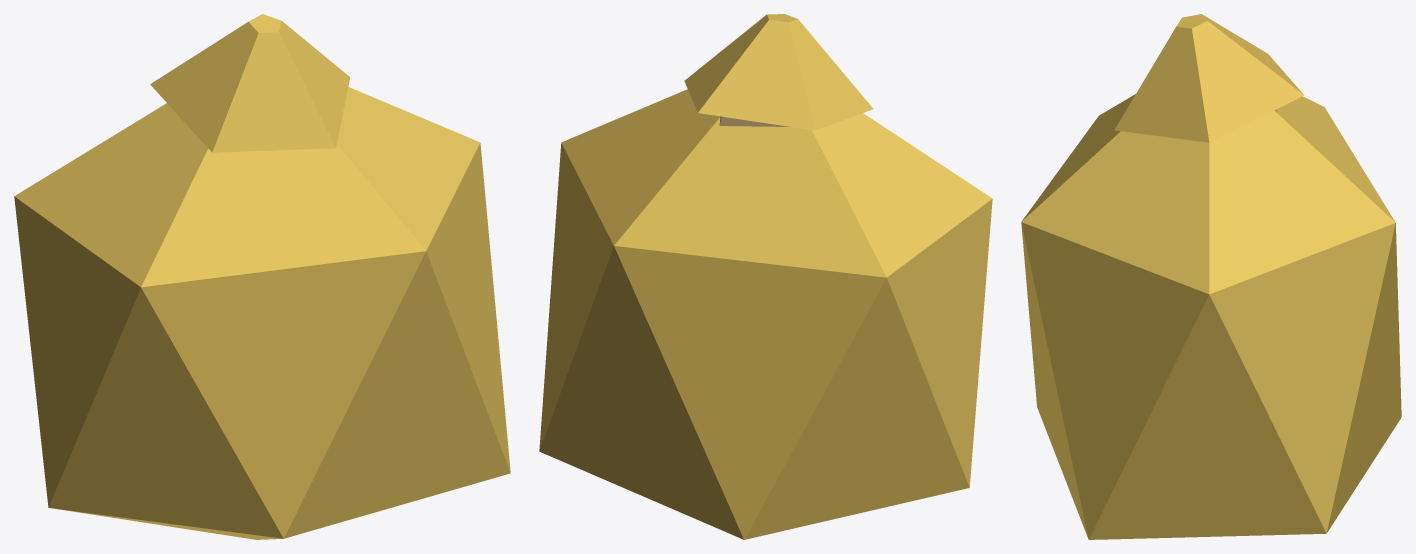
File: Sack_Grain.fbx
3 renders of one model, left to right at view 1: azimuth 30°, elevation 25°; view 2: azimuth 150°, elevation 25°; view 3: azimuth 270°, elevation 25°, orthographic. The views are drawn at different scales.
Parts seen in each view (by area): view 1: Sack_Grain; view 2: Sack_Grain; view 3: Sack_Grain.
Boxes of the visible parts, bbox=[...] form: Sack_Grain: bbox=[14, 14, 510, 539]; Sack_Grain: bbox=[539, 14, 992, 539]; Sack_Grain: bbox=[1021, 14, 1401, 539].
Bounding box in the file's own units: 0.6639 × 0.7716 × 0.5355.
